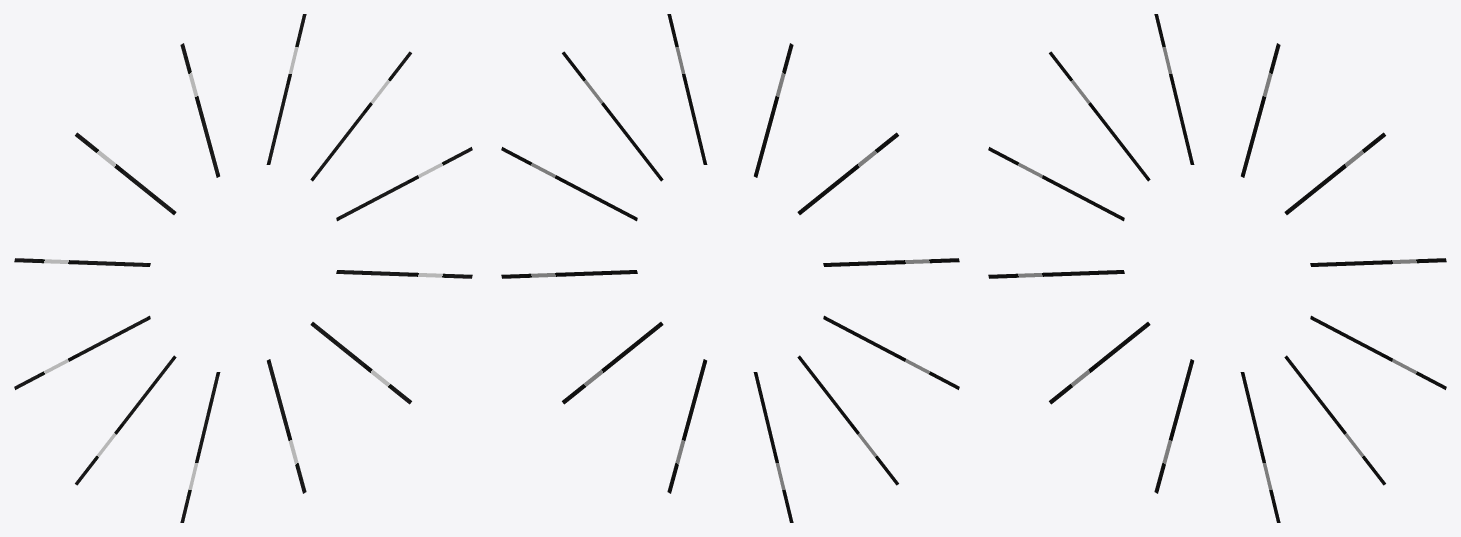
The model's file is PowerupRadialGeo.fbx.
3 views of the same model, side by side, from view 1: azimuth 30°, elevation 25°; view 2: azimuth 150°, elevation 25°; view 3: azimuth 330°, elevation 25° (orthographic).
Visible parts, largest first — view 1: PowerupRadialGeo; view 2: PowerupRadialGeo; view 3: PowerupRadialGeo.
Part boxes in pixels (<box>): PowerupRadialGeo: <box>14,14,472,522</box>; PowerupRadialGeo: <box>501,14,959,522</box>; PowerupRadialGeo: <box>988,14,1446,522</box>.
Size of the model in its own units: 23.77 by 23.77 by 0.
